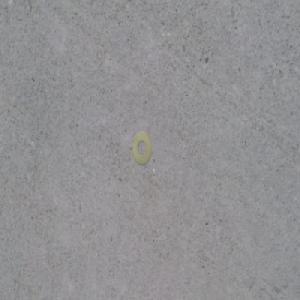Washer: (132, 130, 152, 168)
